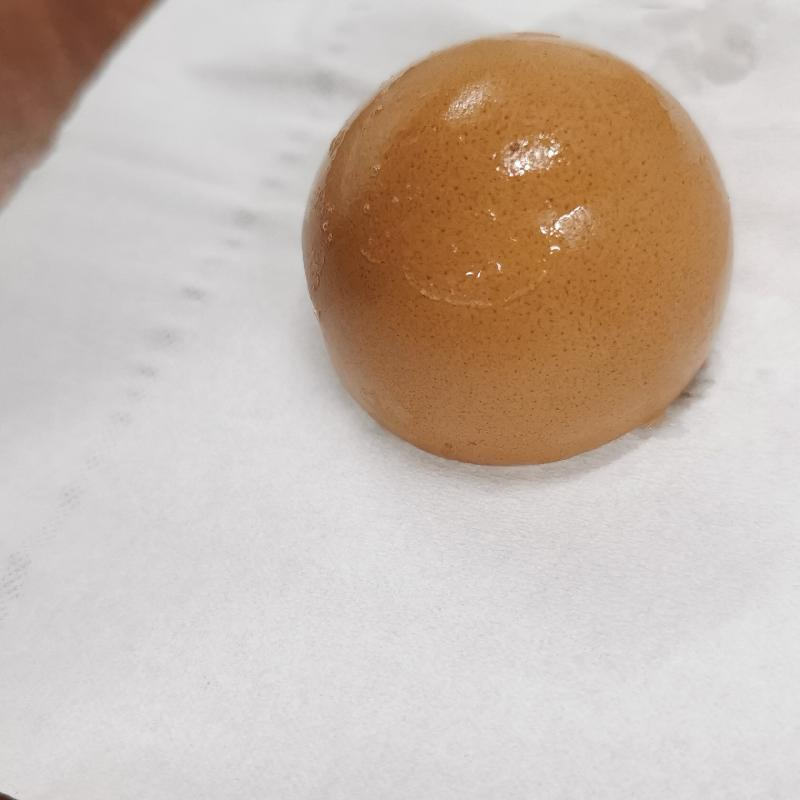eggshell: (294, 43, 735, 469)
